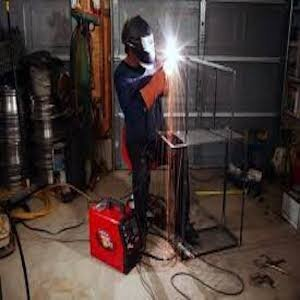heat: (162, 27, 190, 78)
